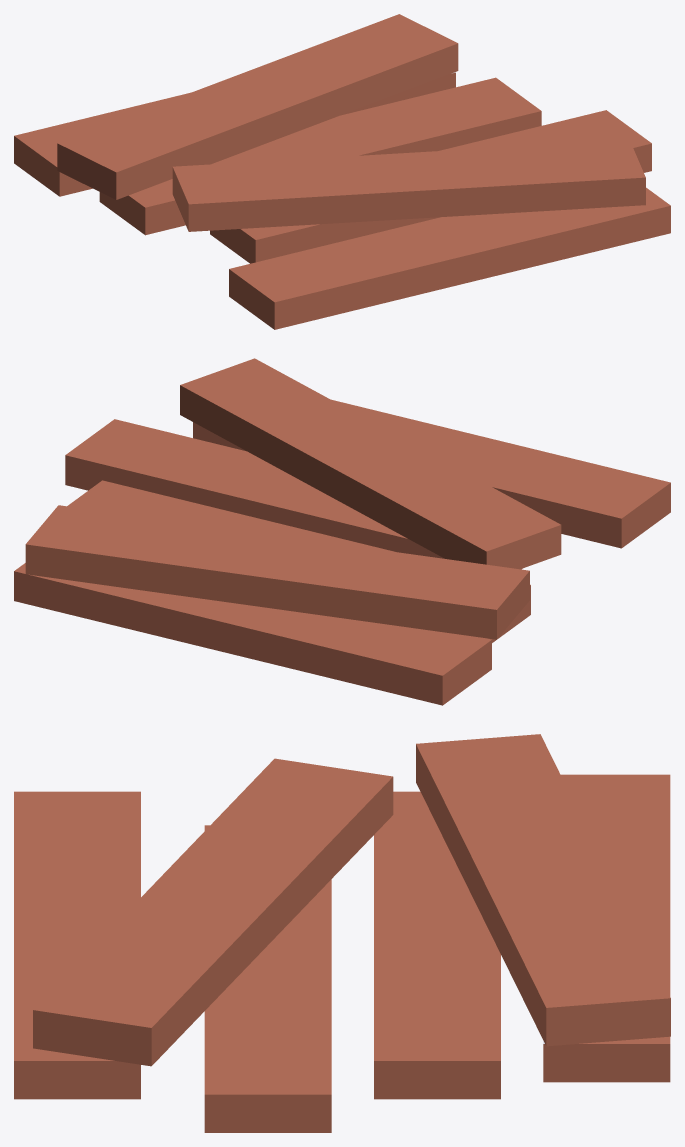
Rendered from wood_prefab.fbx.
3 views of the same model, one above another, from view 1: azimuth 30°, elevation 25°; view 2: azimuth 150°, elevation 25°; view 3: azimuth 270°, elevation 25° (orthographic). The views are drawn at different scales.
Parts seen in each view (by area): view 1: mergedBlocks; view 2: mergedBlocks; view 3: mergedBlocks.
Part boxes in pixels (x1,y1,x2,y2): mergedBlocks: (14, 14, 670, 329); mergedBlocks: (14, 358, 670, 705); mergedBlocks: (14, 734, 670, 1132).
Bounding box in the file's own units: 9 × 1 × 7.76.
